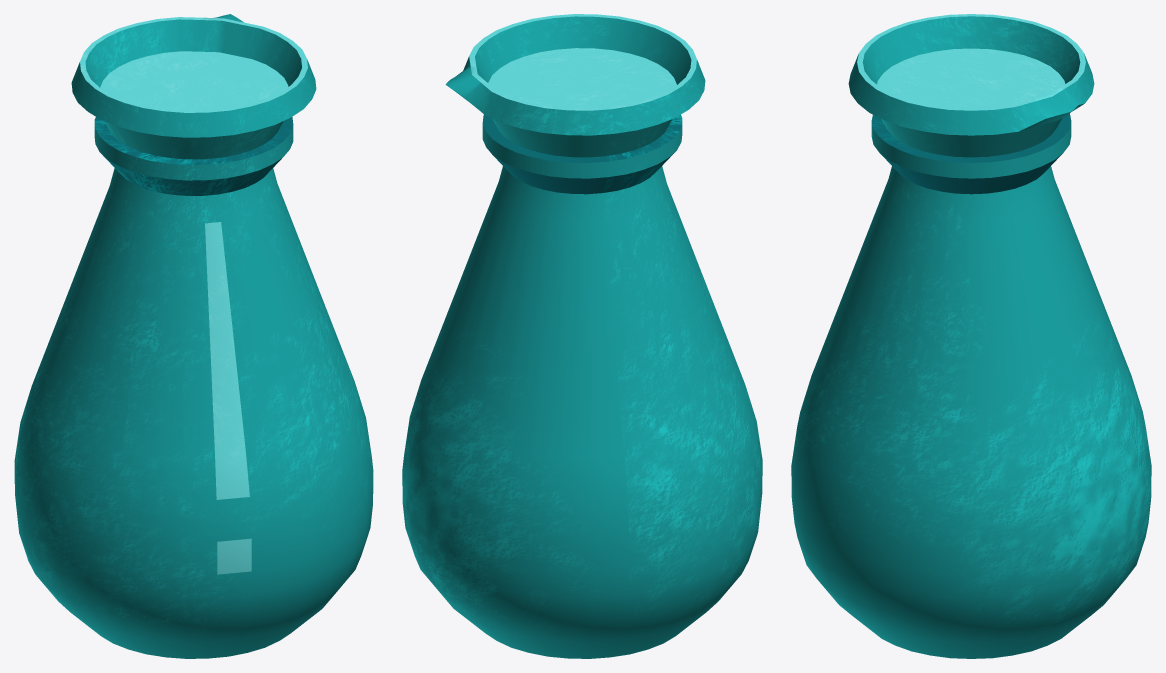
Rendered from 유리병3.fbx.
The picture shows the model from 3 angles, left to right: view 1: azimuth 30°, elevation 25°; view 2: azimuth 150°, elevation 25°; view 3: azimuth 270°, elevation 25°; orthographic projection.
Parts seen in each view (by area): view 1: 3번; view 2: 3번; view 3: 3번.
Part boxes in pixels (x1=…): 3번: x1=14, y1=14, x2=373, y2=658; 3번: x1=402, y1=14, x2=762, y2=658; 3번: x1=791, y1=14, x2=1151, y2=658.
Size of the model in its own units: 335 by 565 by 335.
1 material, 1 textured.
